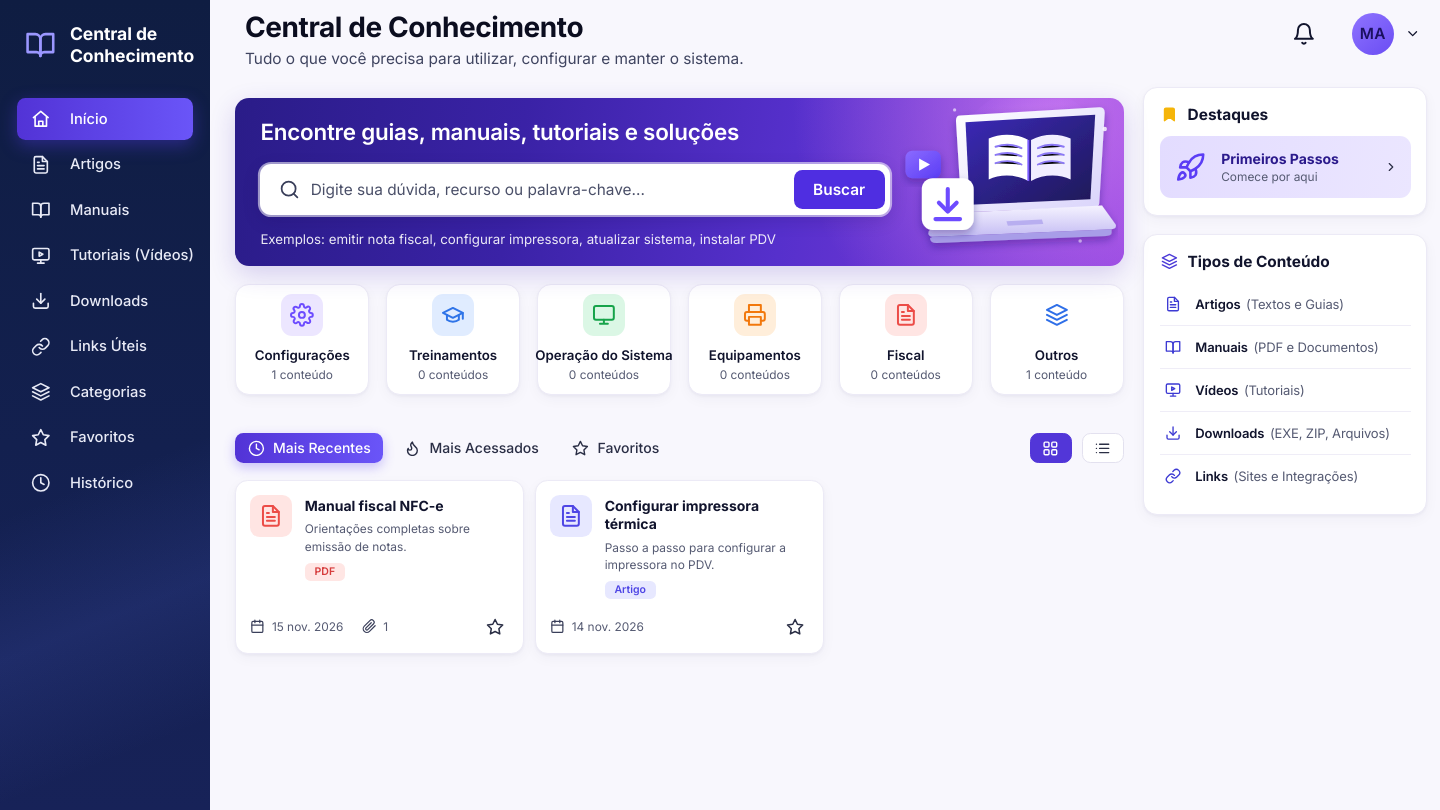
Test: Central de Conhecimento › favorita via API, filtra pela aba Favoritos e sincroniza cache local
Click the button named "Adicionar \"Manual fiscal NFC-e\" aos favoritos" at (495, 627), box [481, 613, 509, 641]
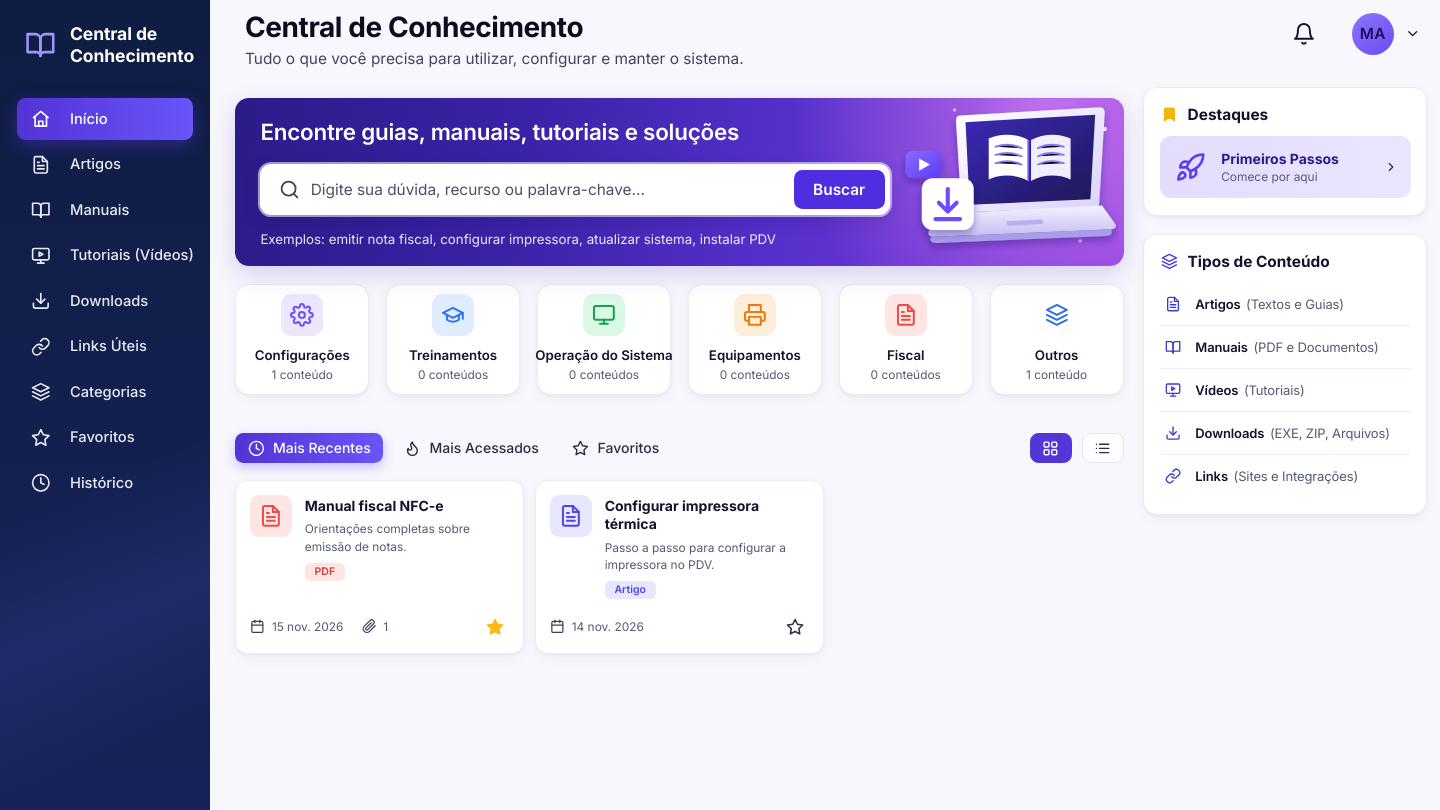
Click the tab "Favoritos" at (616, 448), box [560, 433, 672, 463]
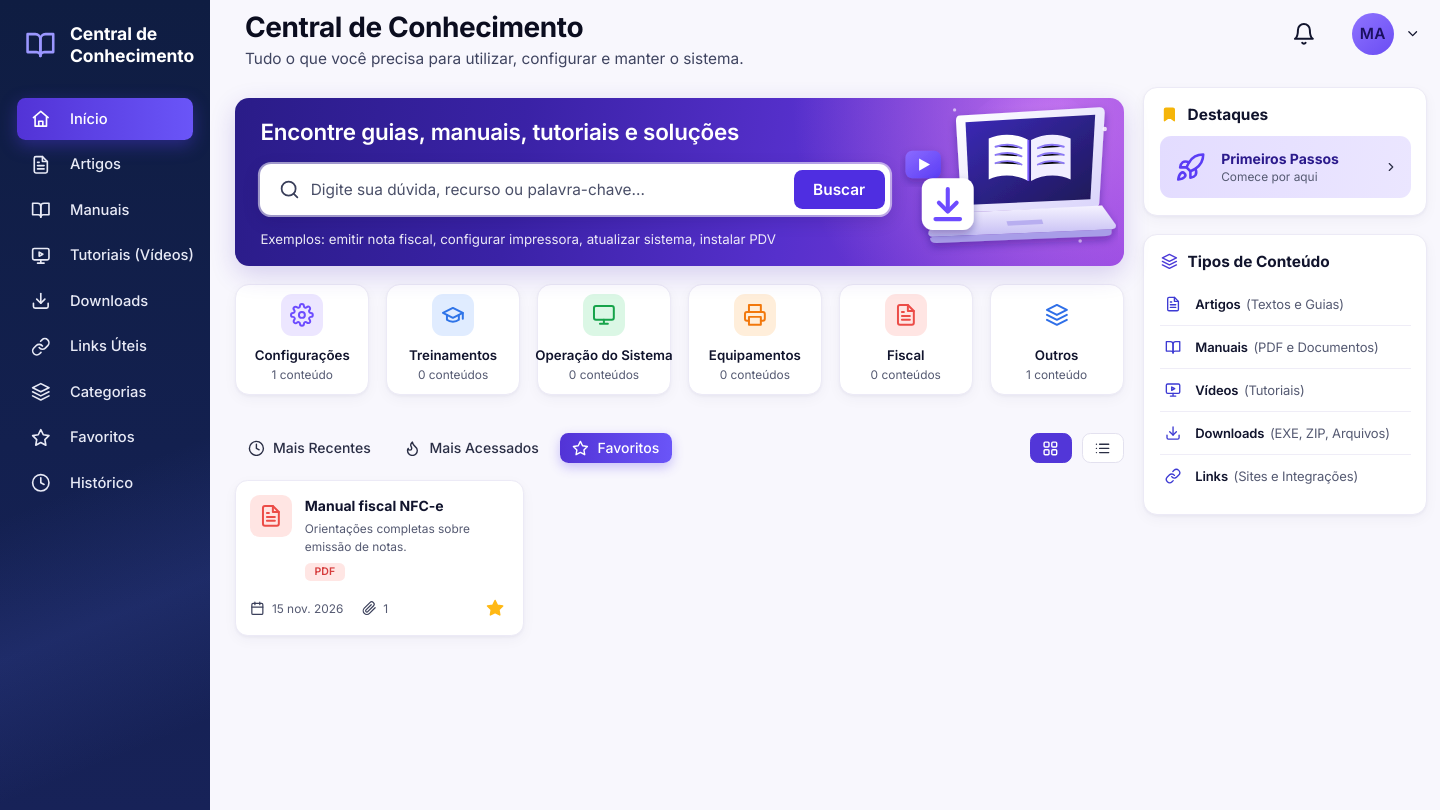
Click the button named "Remover \"Manual fiscal NFC-e\" dos favoritos" at (495, 608), box [481, 594, 509, 622]
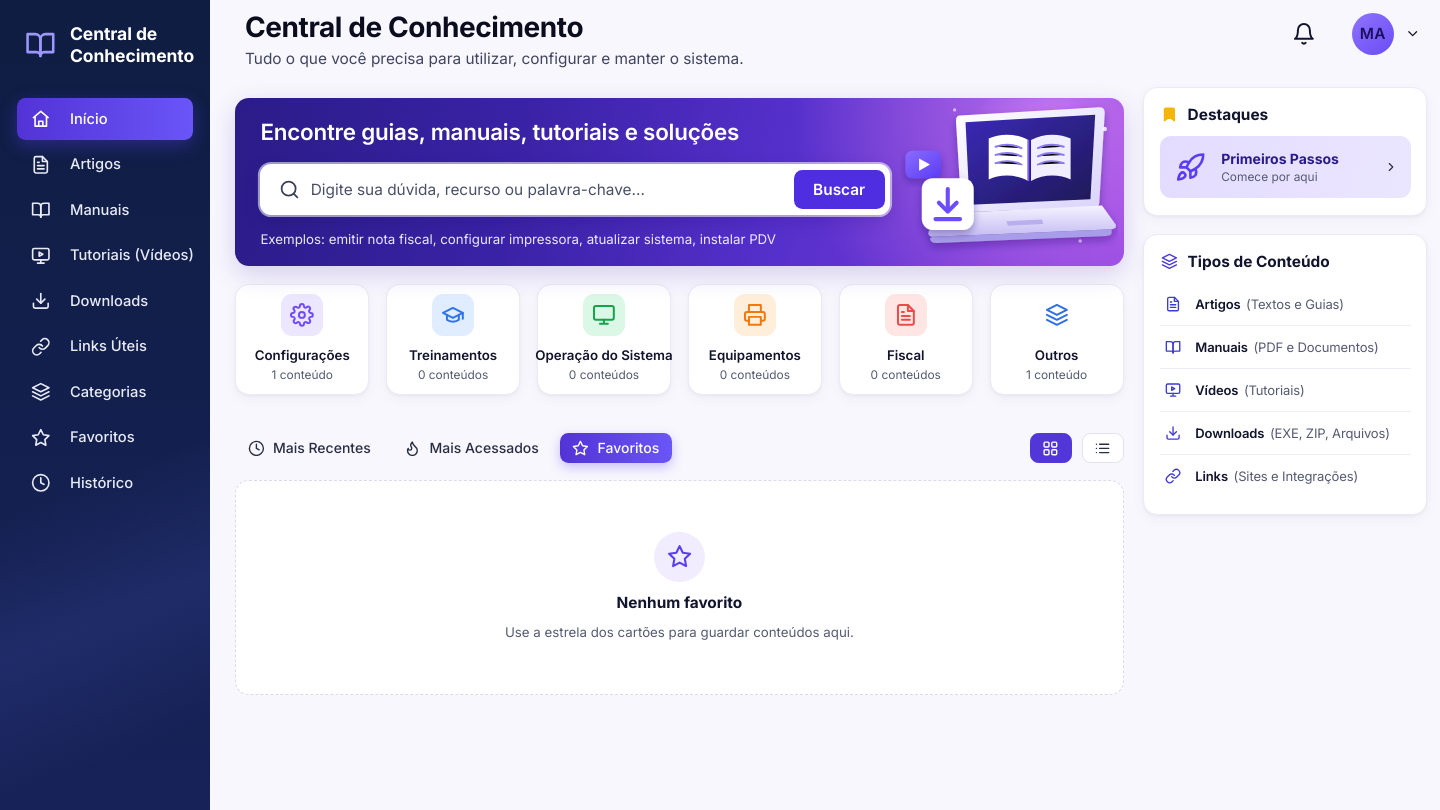
Result: the text "Nenhum favorito" is shown at [617, 593, 742, 612]
